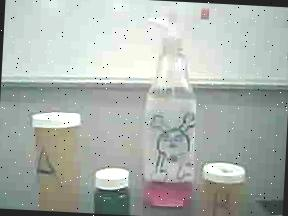Bottle A: (21, 101, 94, 213)
Bottle B: (196, 155, 249, 216)
Bottle C: (86, 156, 138, 216)
hazard: (130, 0, 209, 214)
